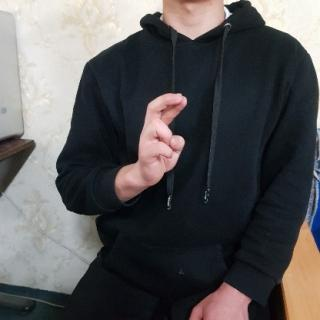ZAY: (137, 90, 188, 188)
